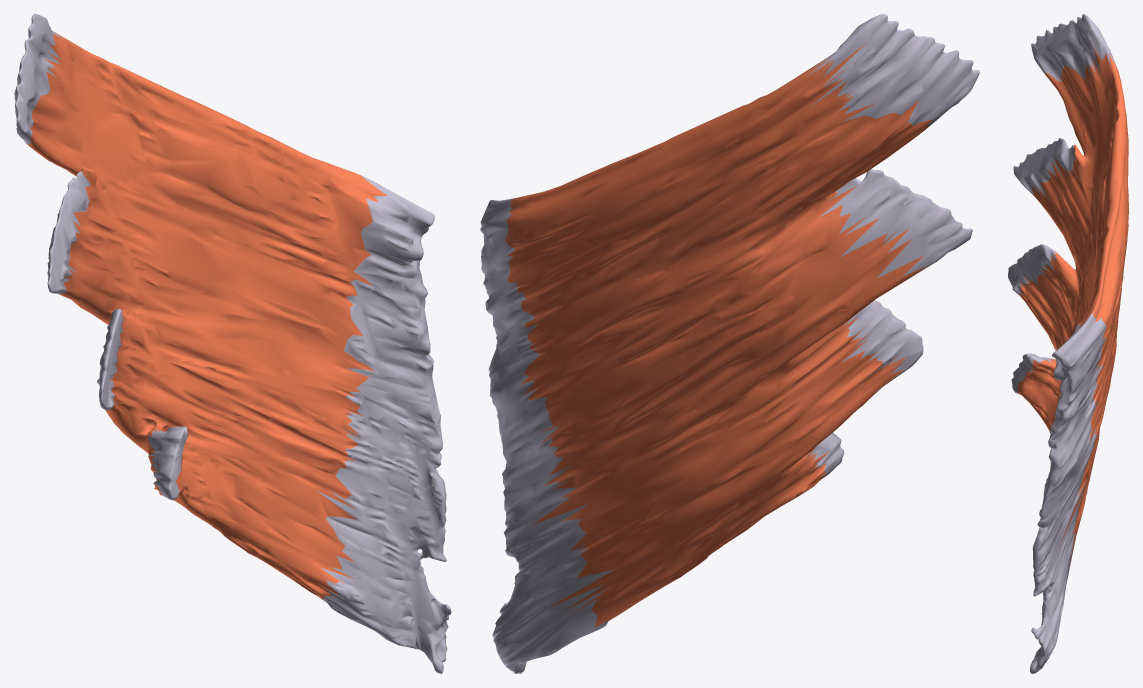
File: Serratus_posterior_inferior_muscle.r_Generated_Mesh_From_X3D.22.glb
3 views of the same model, side by side, from view 1: azimuth 30°, elevation 25°; view 2: azimuth 150°, elevation 25°; view 3: azimuth 270°, elevation 25° (orthographic). The views are drawn at different scales.
Parts seen in each view (by area): view 1: Serratus_posterior_inferior_muscle.r_Generated_Mesh_From_X3D; view 2: Serratus_posterior_inferior_muscle.r_Generated_Mesh_From_X3D; view 3: Serratus_posterior_inferior_muscle.r_Generated_Mesh_From_X3D.
Part boxes in pixels (bbox=[...]): Serratus_posterior_inferior_muscle.r_Generated_Mesh_From_X3D: bbox=[14, 14, 451, 673]; Serratus_posterior_inferior_muscle.r_Generated_Mesh_From_X3D: bbox=[480, 14, 979, 673]; Serratus_posterior_inferior_muscle.r_Generated_Mesh_From_X3D: bbox=[1008, 14, 1128, 673].
Bounding box in the file's own units: 0.1137 × 0.1786 × 0.0371.
